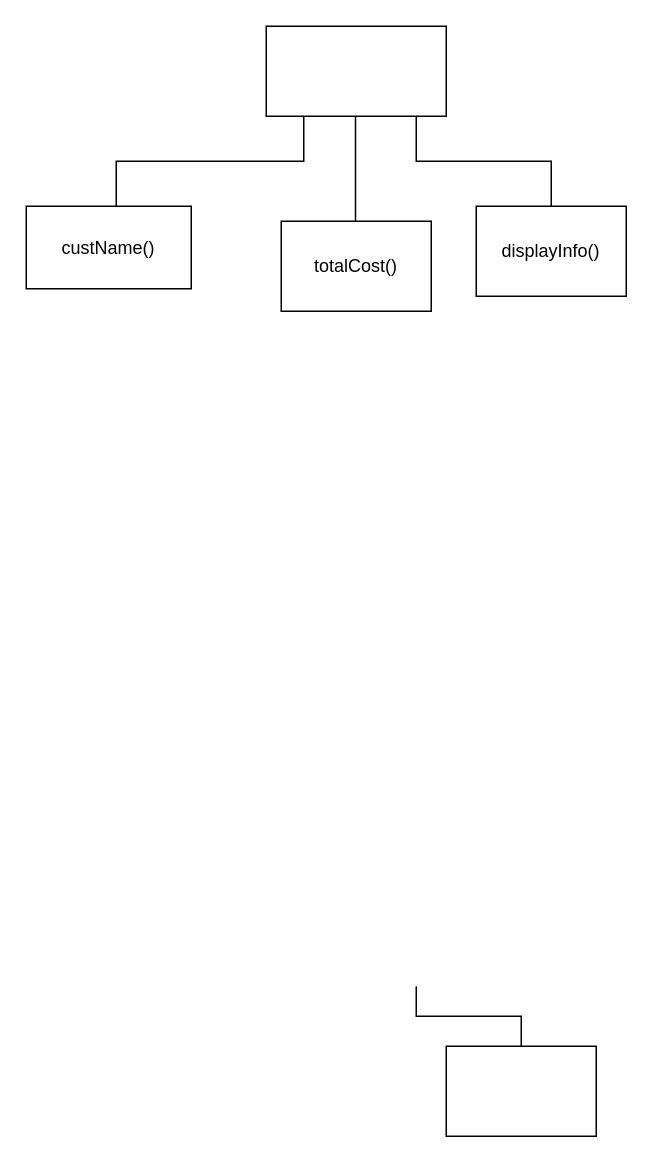
This 653x1163 diagram has some shape labels left out. The box of each missing label's shape, as (x1, y1, x2, y2) in pixels:
Division: (445, 1045, 596, 1136)
serviceCharges(): (265, 25, 446, 116)
